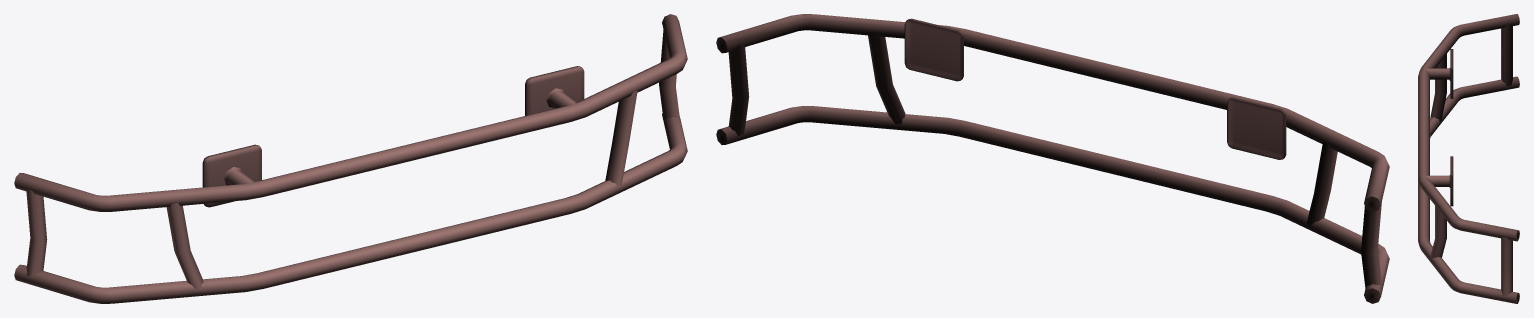
Rendered from Zr1_FB_05_Trim.fbx.
The picture shows the model from 3 angles, left to right: view 1: azimuth 30°, elevation 25°; view 2: azimuth 150°, elevation 25°; view 3: azimuth 270°, elevation 25°; orthographic projection. The views are drawn at different scales.
Visible parts, largest first — view 1: Zr1_FB_05_Trim; view 2: Zr1_FB_05_Trim; view 3: Zr1_FB_05_Trim.
Part boxes in pixels (left/top/right/bottom): Zr1_FB_05_Trim: left=14, top=14, right=687, bottom=303; Zr1_FB_05_Trim: left=716, top=14, right=1389, bottom=303; Zr1_FB_05_Trim: left=1418, top=14, right=1519, bottom=303.
Bounding box in the file's own units: 176 × 31.49 × 34.23.
